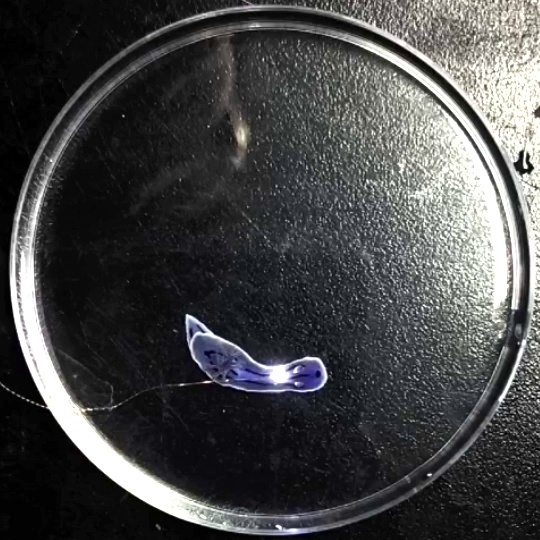sea-slug: (110, 33, 316, 385)
